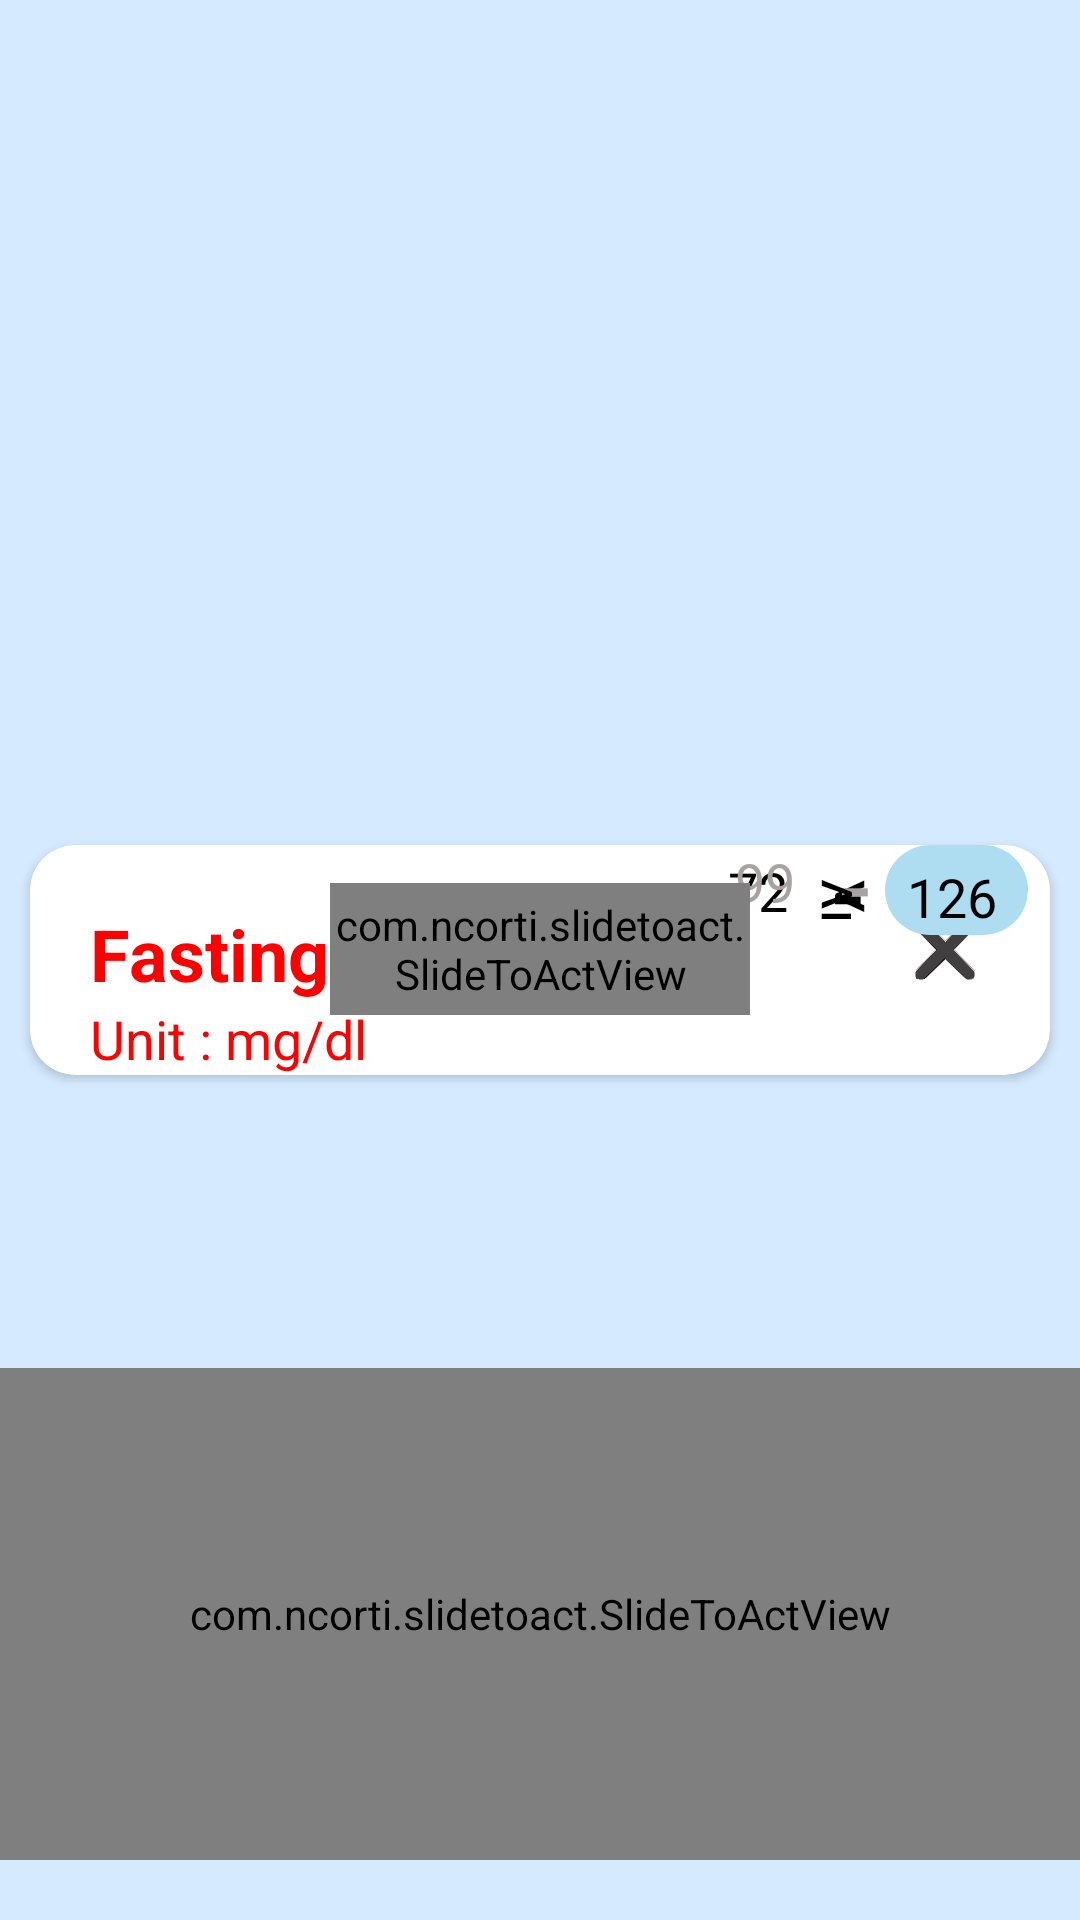

Icons on this 1080 × 1920 Android screen, each with the point to tap as (x,y):
cross: (945,950)
